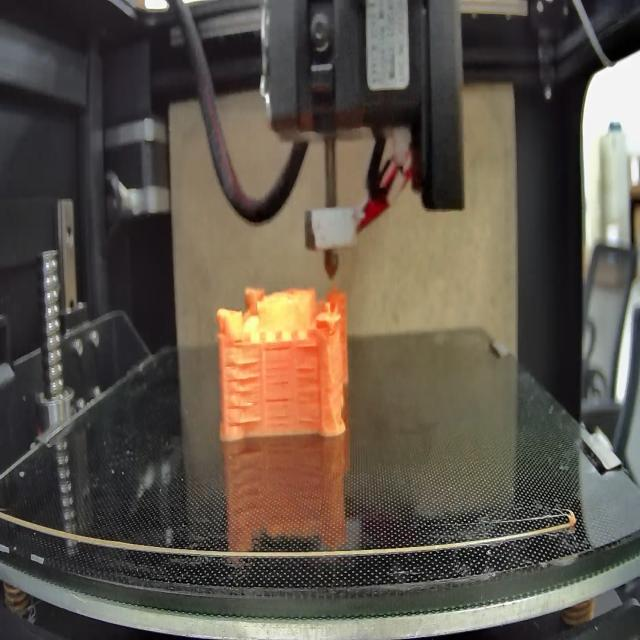cracks: (225, 358, 260, 425), (297, 361, 320, 425), (265, 362, 292, 404), (267, 411, 291, 433), (262, 344, 291, 357), (299, 341, 318, 355)
